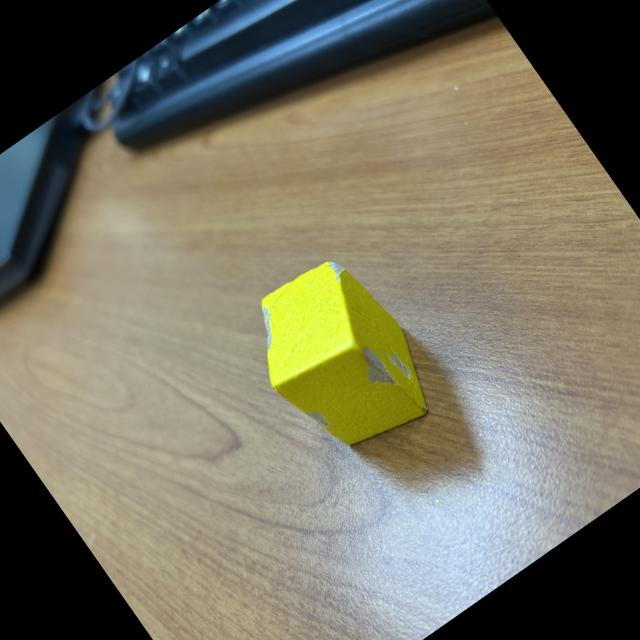broken: (227, 240, 451, 477)
